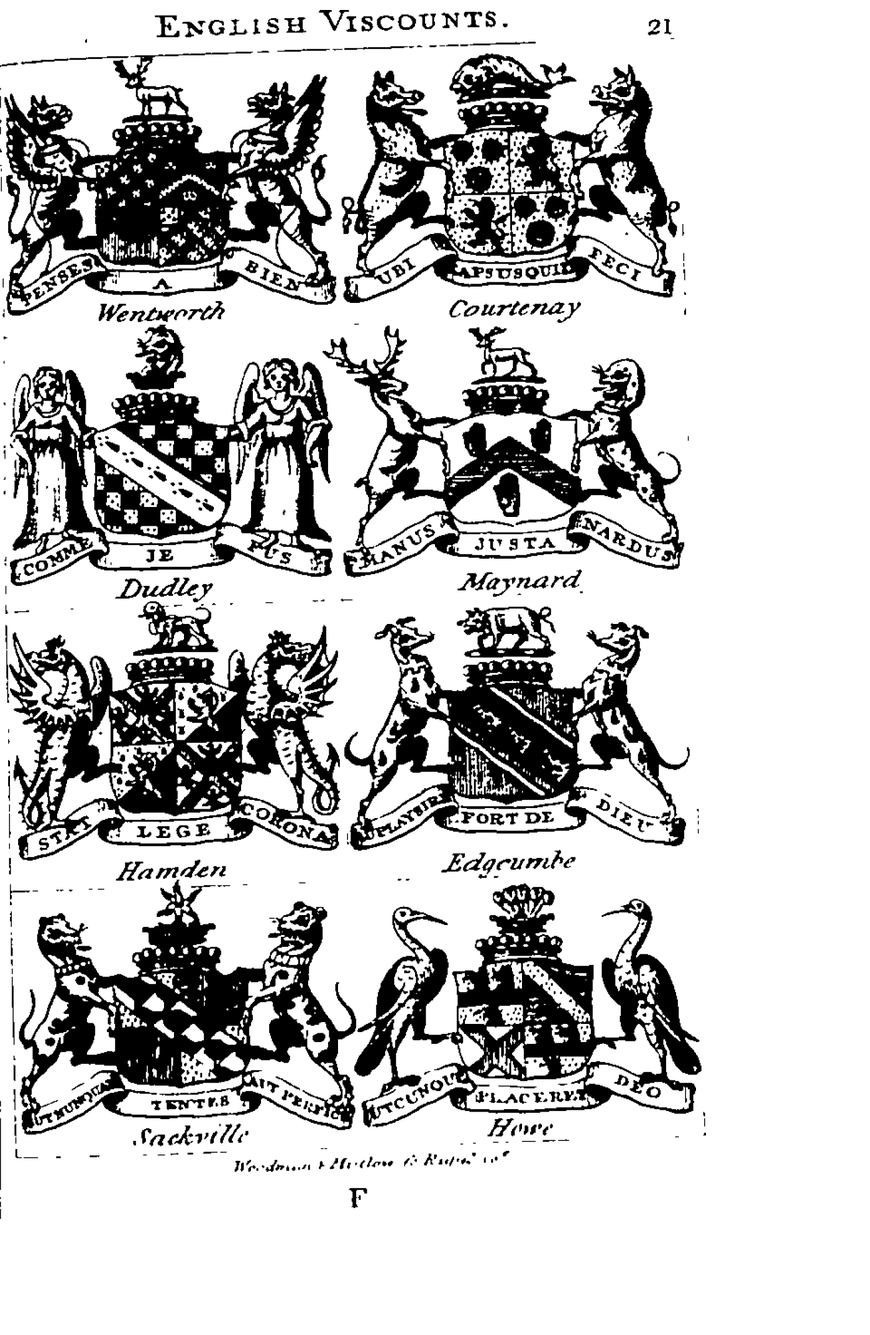coat_of_arms: (326, 319, 698, 594), (336, 45, 687, 333), (349, 598, 691, 889), (1, 884, 369, 1153), (3, 322, 345, 607), (6, 604, 352, 885), (367, 880, 713, 1150), (5, 62, 337, 327)
